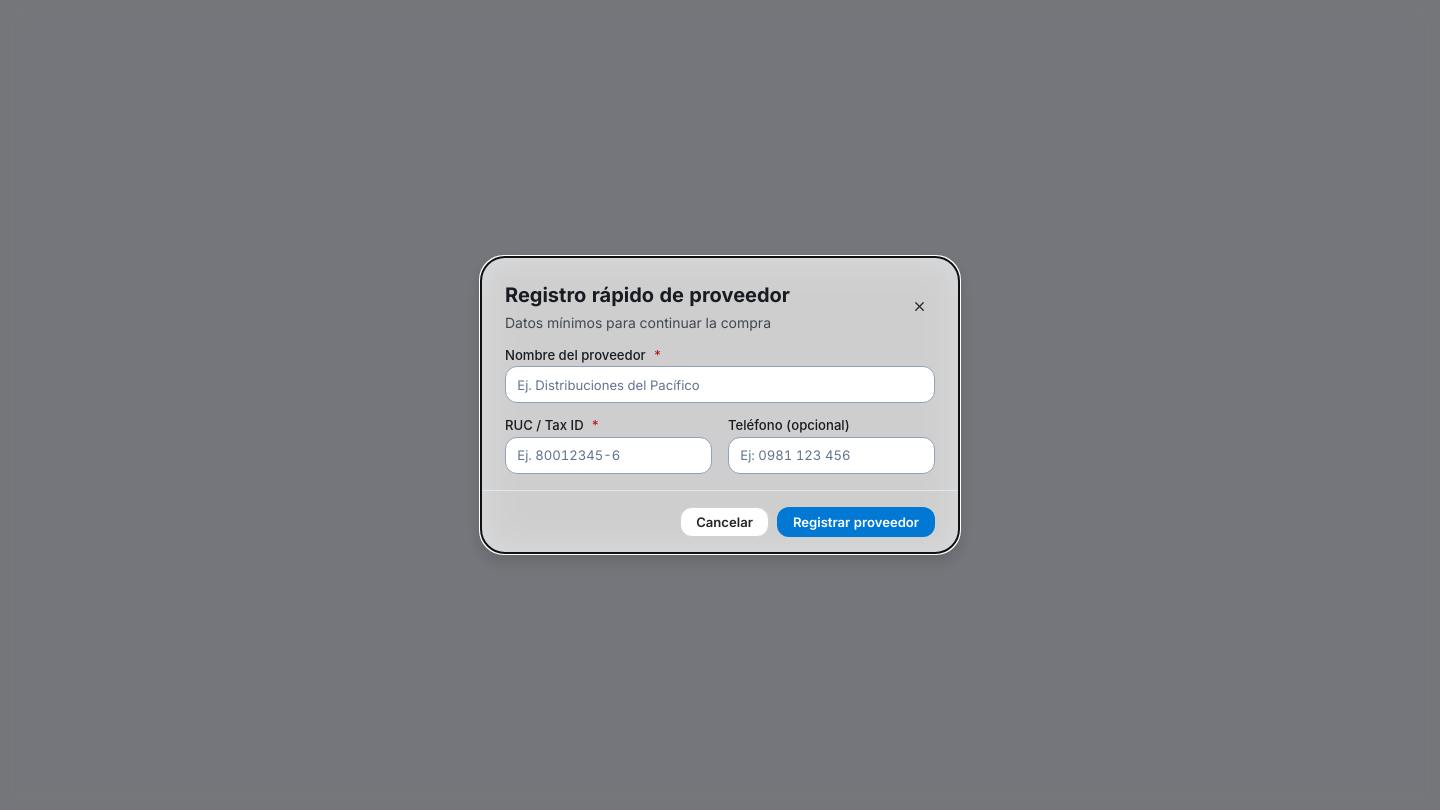
Scenario: QuickSupplierModal › muestra el error del backend cuando createSupplier falla
Type "Distribuciones del Pacífico" into the field labelled "Nombre del proveedor *" at (720, 385), box [505,366,935,403]
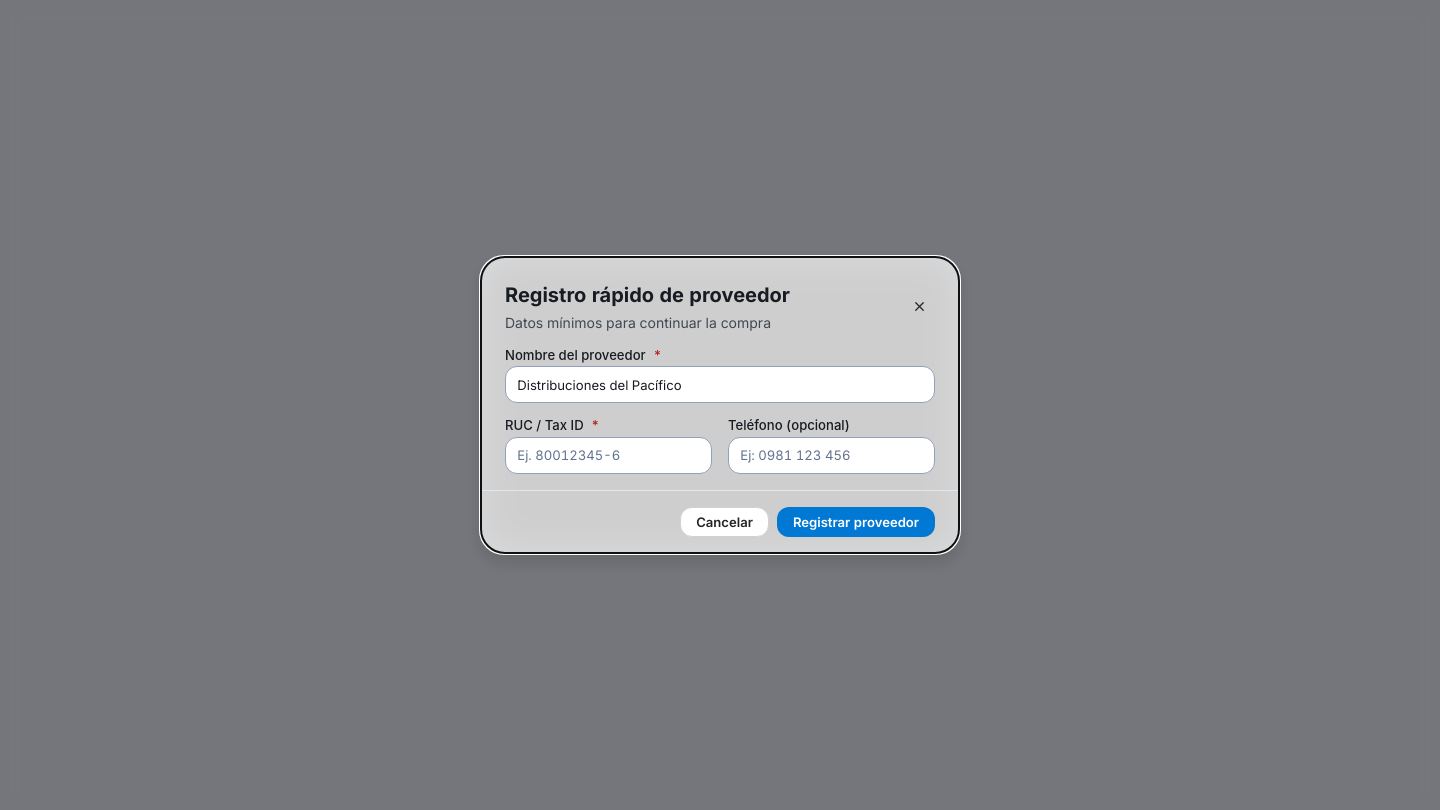
Type "80012345-6" into the field labelled "RUC / Tax ID *" at (608, 455), box [505,436,712,474]
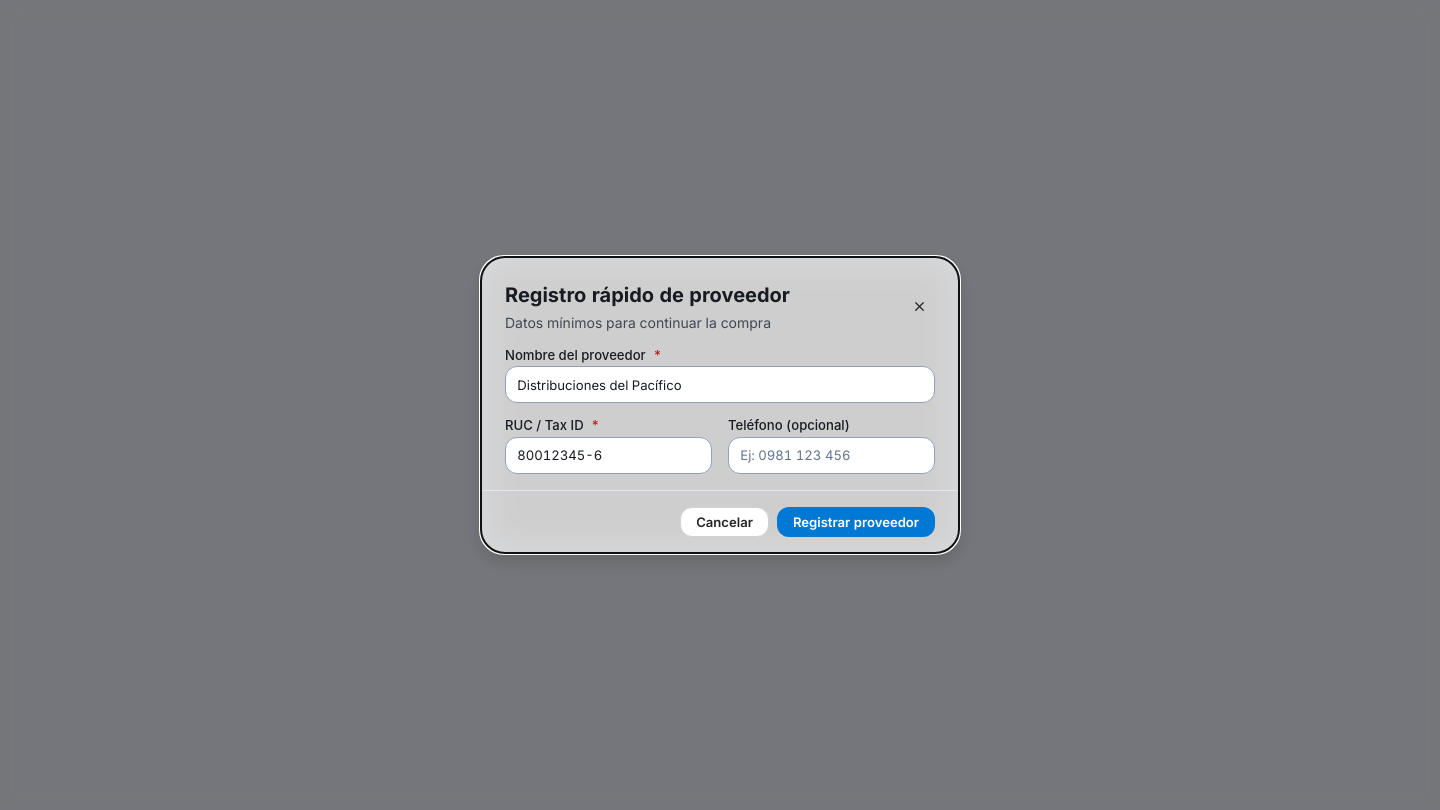
Click the button "Registrar proveedor" at (856, 522), box [777,507,935,537]
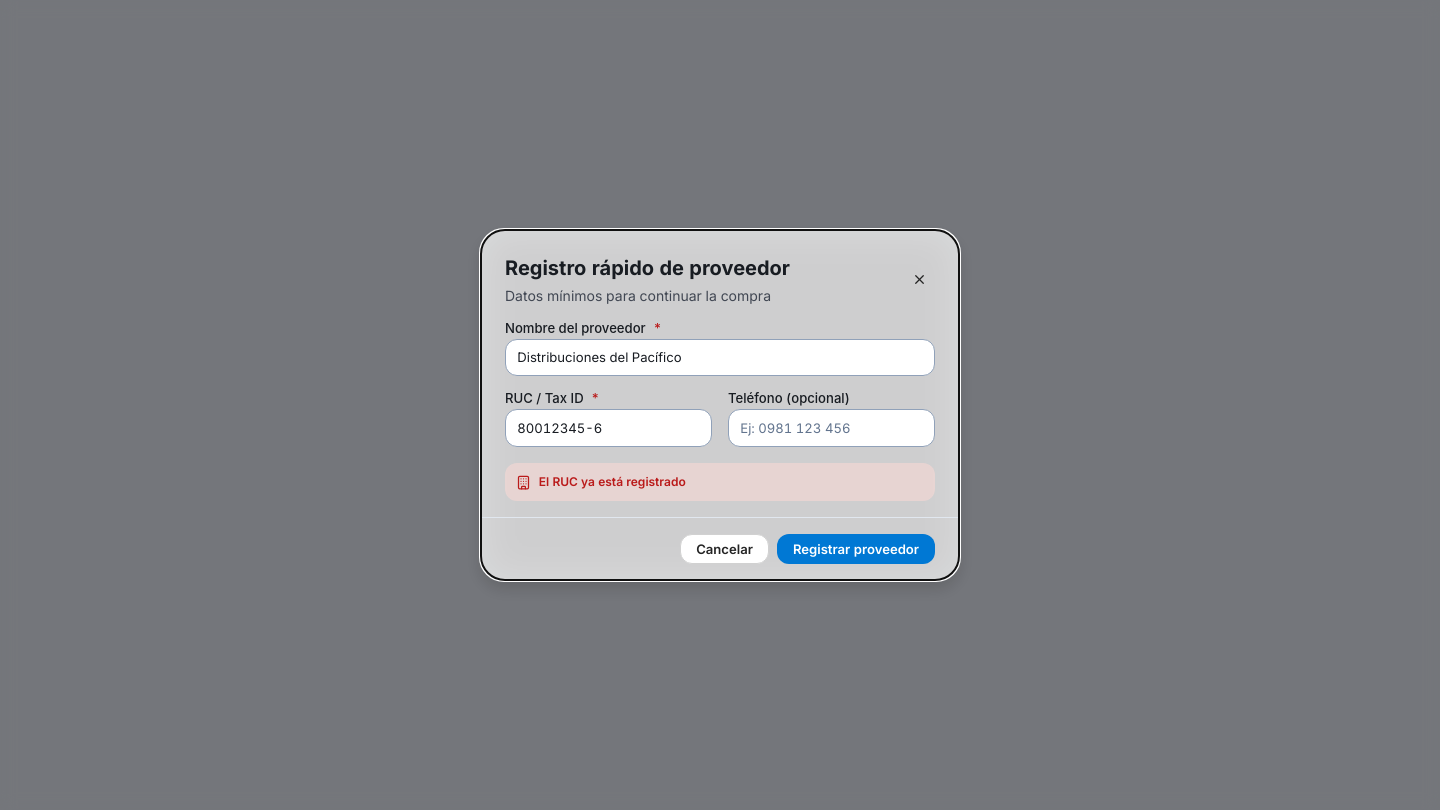
Expected: the text "El RUC ya está registrado" is shown, [539,474,686,490]
